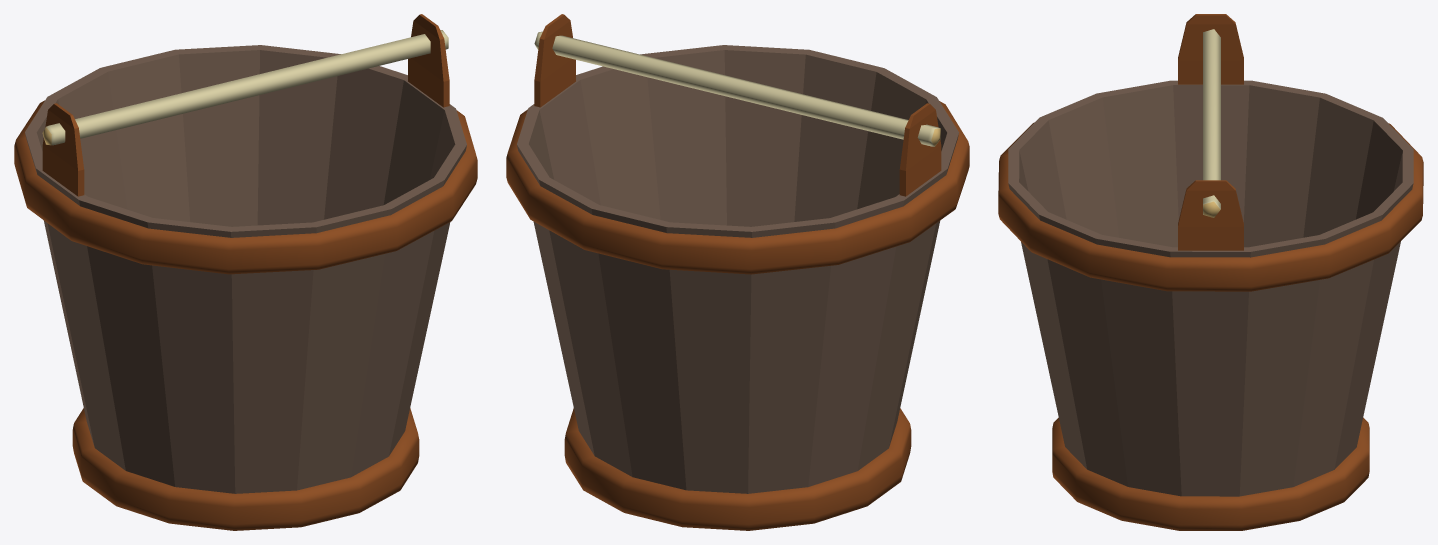
The model's file is WoodenPail.fbx.
3 renders of one model, left to right at view 1: azimuth 30°, elevation 25°; view 2: azimuth 150°, elevation 25°; view 3: azimuth 270°, elevation 25°, orthographic. The views are drawn at different scales.
Visible parts, largest first — view 1: WoodenPail_LOD0; view 2: WoodenPail_LOD0; view 3: WoodenPail_LOD0.
Part boxes in pixels (box(x1,y1,x2,y2)): WoodenPail_LOD0: box(14, 14, 477, 530); WoodenPail_LOD0: box(506, 14, 969, 530); WoodenPail_LOD0: box(998, 14, 1423, 530).
Size of what is drawn, in the model's own units: 139 by 131 by 137.
